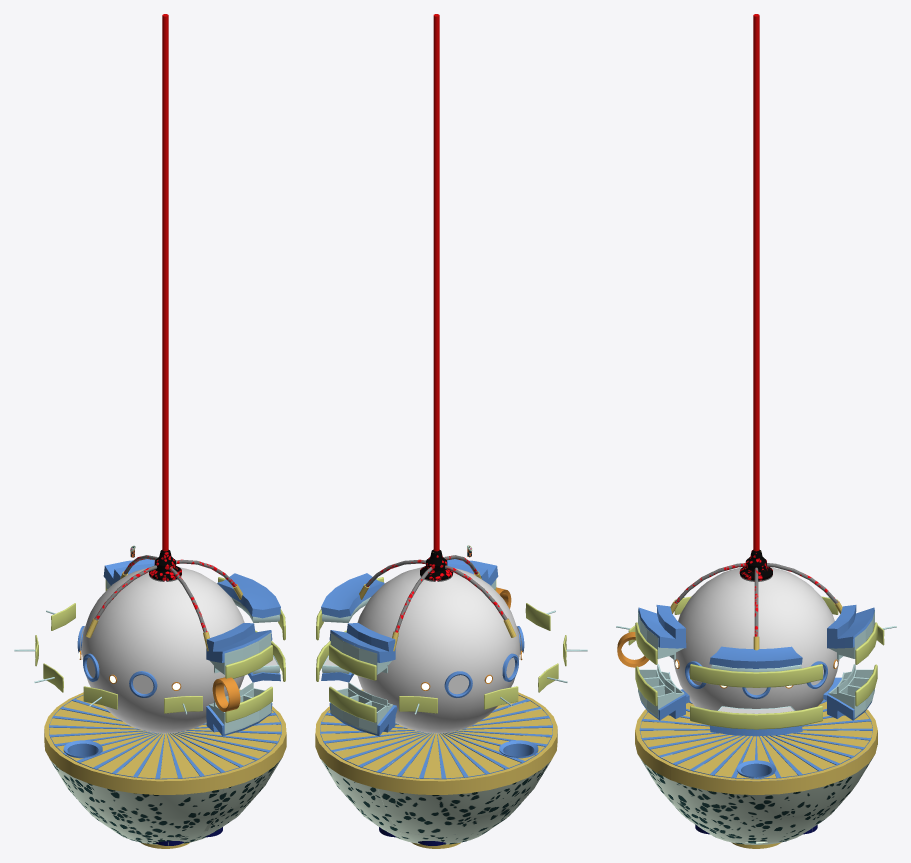
The model's file is scene_interieur_amphipolis.fbx.
3 renders of one model, left to right at view 1: azimuth 30°, elevation 25°; view 2: azimuth 150°, elevation 25°; view 3: azimuth 270°, elevation 25°, orthographic.
Visible parts, largest first — view 1: cage_noyau.001, base_fusee_couvercle, base_fusee_ground, base_labo_etageres_cadres, lazer, base_tables, base_aspirateur_noyau, base_labo_tables, base_fenetres, base_portes; view 2: cage_noyau.001, base_fusee_couvercle, base_fusee_ground, base_labo_etageres_cadres, lazer, base_tables, base_aspirateur_noyau, base_labo_tables, base_fenetres; view 3: base_fusee_couvercle, cage_noyau.001, base_labo_etageres_cadres, base_fusee_ground, base_labo_tables, lazer, base_aspirateur_noyau, base_fenetres, base_tables.
Boxes of the visible parts, box(x1,y1,x2,y2) form: cage_noyau.001: box(81, 567, 244, 733); base_fusee_couvercle: box(44, 689, 286, 794); base_fusee_ground: box(51, 757, 282, 848); base_labo_etageres_cadres: box(103, 559, 280, 736); lazer: box(162, 14, 168, 551); base_tables: box(14, 603, 202, 714); base_aspirateur_noyau: box(85, 550, 242, 651); base_labo_tables: box(105, 577, 285, 722); base_fenetres: box(77, 626, 157, 697); base_portes: box(212, 677, 240, 711); cage_noyau.001: box(357, 567, 520, 733); base_fusee_couvercle: box(315, 689, 557, 794); base_fusee_ground: box(320, 758, 550, 848); base_labo_etageres_cadres: box(321, 559, 498, 736); lazer: box(433, 14, 439, 551); base_tables: box(399, 603, 587, 714); base_aspirateur_noyau: box(359, 549, 516, 651); base_labo_tables: box(316, 577, 496, 722); base_fenetres: box(444, 626, 524, 697); base_fusee_couvercle: box(635, 699, 877, 794); cage_noyau.001: box(673, 567, 839, 710); base_labo_etageres_cadres: box(638, 605, 874, 736); base_fusee_ground: box(635, 744, 877, 848); base_labo_tables: box(635, 622, 877, 729); lazer: box(753, 14, 759, 551); base_aspirateur_noyau: box(670, 550, 842, 650); base_fenetres: box(685, 661, 827, 699); base_tables: box(616, 596, 896, 645).
Size of the model in its own units: 2964 by 9864 by 3054.
